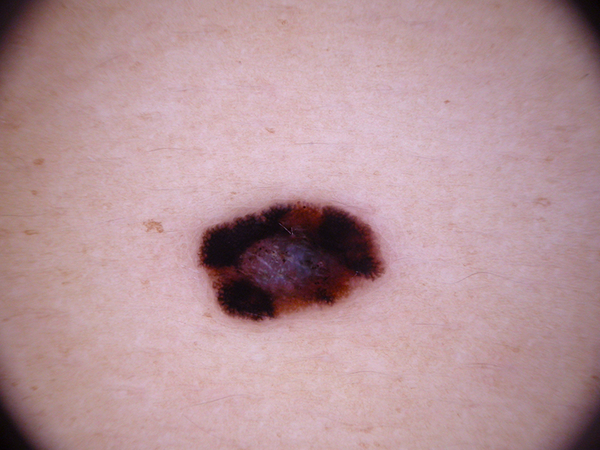Detected Lesion: (192, 193, 397, 325)
